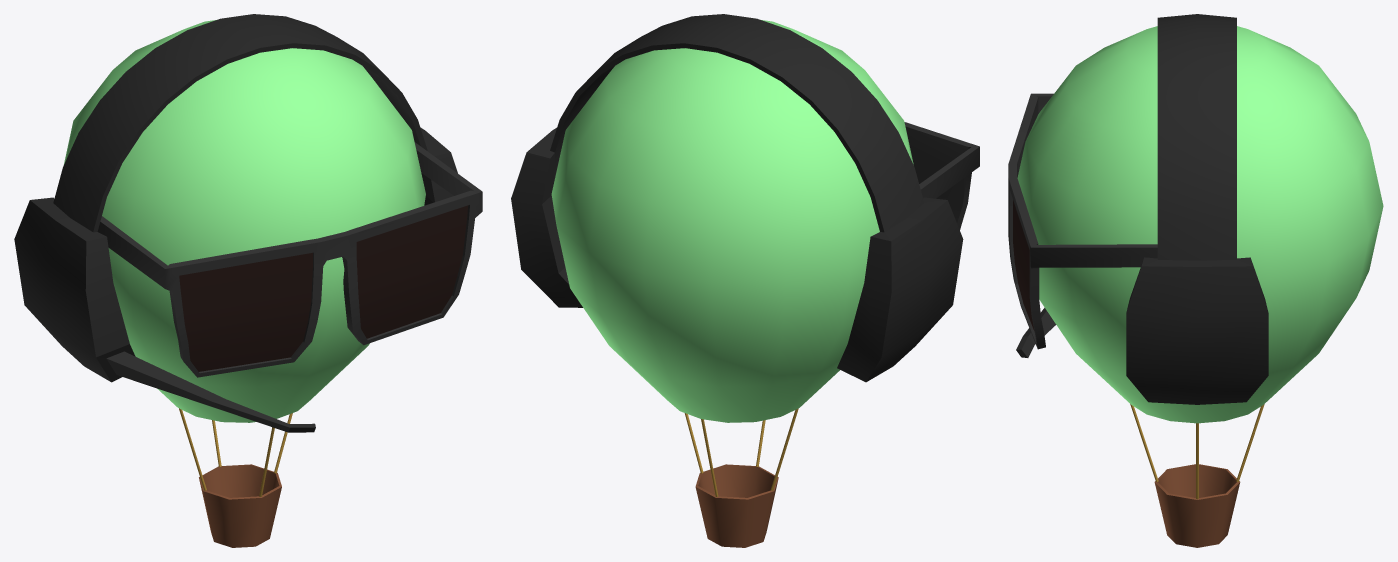
The model's file is Lv4_FB_Bomber.FBX.
3 views of the same model, side by side, from view 1: azimuth 30°, elevation 25°; view 2: azimuth 150°, elevation 25°; view 3: azimuth 270°, elevation 25° (orthographic).
Visible parts, largest first — view 1: Sphere001, Sphere002, Plane001, Cylinder001, Line003; view 2: Sphere001, Sphere002, Cylinder001, Plane001, Line003; view 3: Sphere001, Sphere002, Plane001, Cylinder001, Line003.
Boxes of the visible parts, left/top/right/bottom form: Sphere001: left=64, top=20, right=425, bottom=422; Sphere002: left=14, top=14, right=457, bottom=432; Plane001: left=97, top=142, right=482, bottom=377; Cylinder001: left=199, top=464, right=281, bottom=547; Line003: left=179, top=408, right=292, bottom=496; Sphere001: left=551, top=20, right=913, bottom=422; Sphere002: left=511, top=14, right=963, bottom=382; Cylinder001: left=695, top=464, right=778, bottom=547; Plane001: left=904, top=122, right=979, bottom=229; Line003: left=684, top=408, right=798, bottom=496; Sphere001: left=1017, top=26, right=1383, bottom=423; Sphere002: left=1016, top=14, right=1268, bottom=404; Plane001: left=1008, top=93, right=1157, bottom=349; Cylinder001: left=1154, top=464, right=1240, bottom=547; Line003: left=1130, top=404, right=1264, bottom=499.
Bounding box in the file's own units: 157 × 194 × 131.
